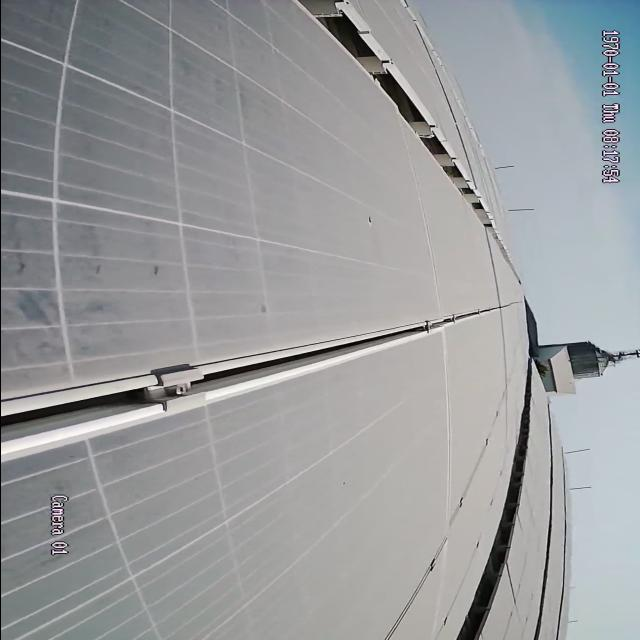interior panel: (14, 308, 499, 453)
outher panel: (294, 0, 518, 285), (457, 392, 531, 638)
